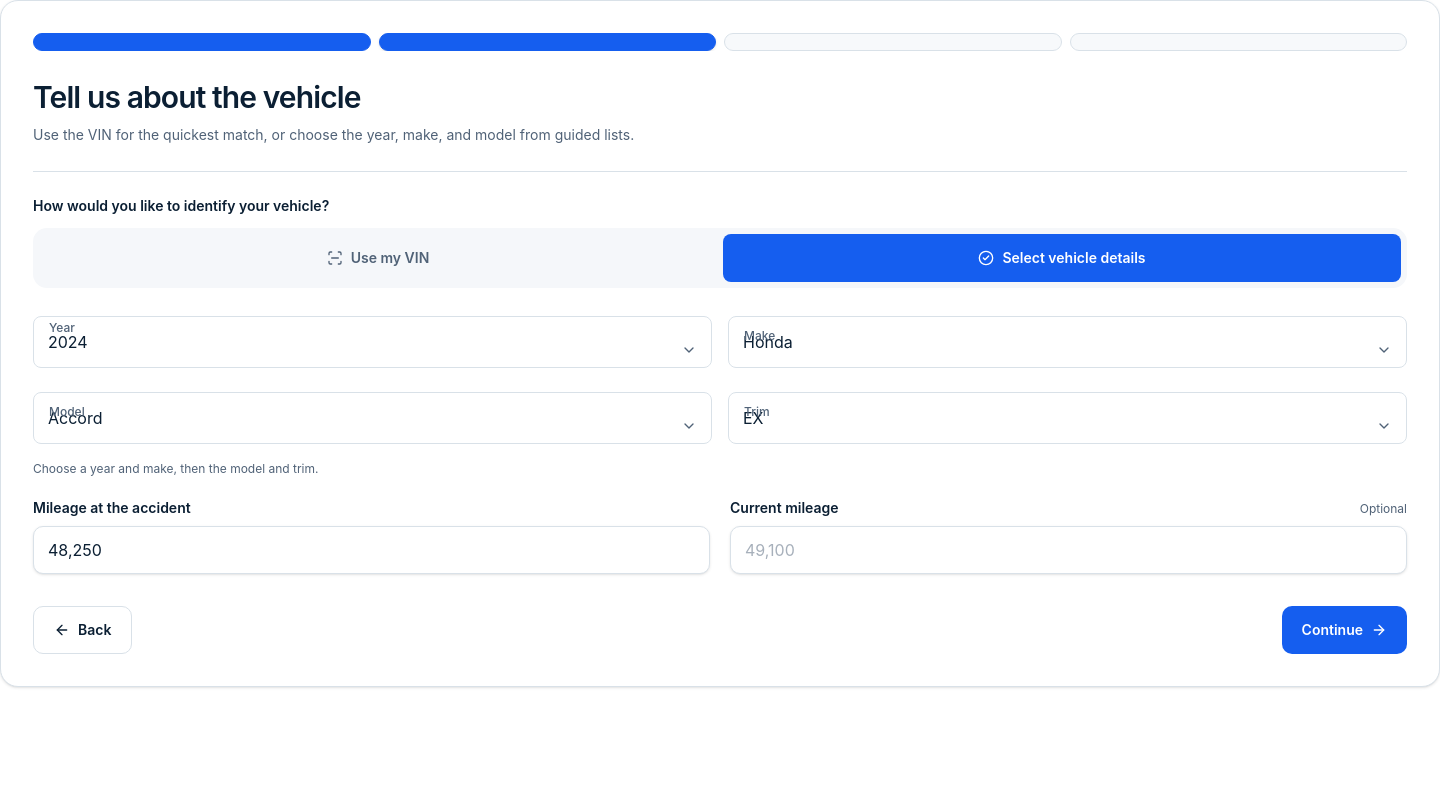
Test: DiminishedValueIntakeFlow › canonicalizes a hydrated configuration even when its saved trim is empty
The image size is (1440, 810).
Expected: the dropdown named "Trim" is enabled, top-left (728, 392), bottom-right (1407, 444)
Expected: the dropdown named "Trim" holds "marketcheck-trim-ex", top-left (728, 392), bottom-right (1407, 444)
Click the button "Continue" at (1344, 630), box top-left (1282, 606), bottom-right (1407, 654)
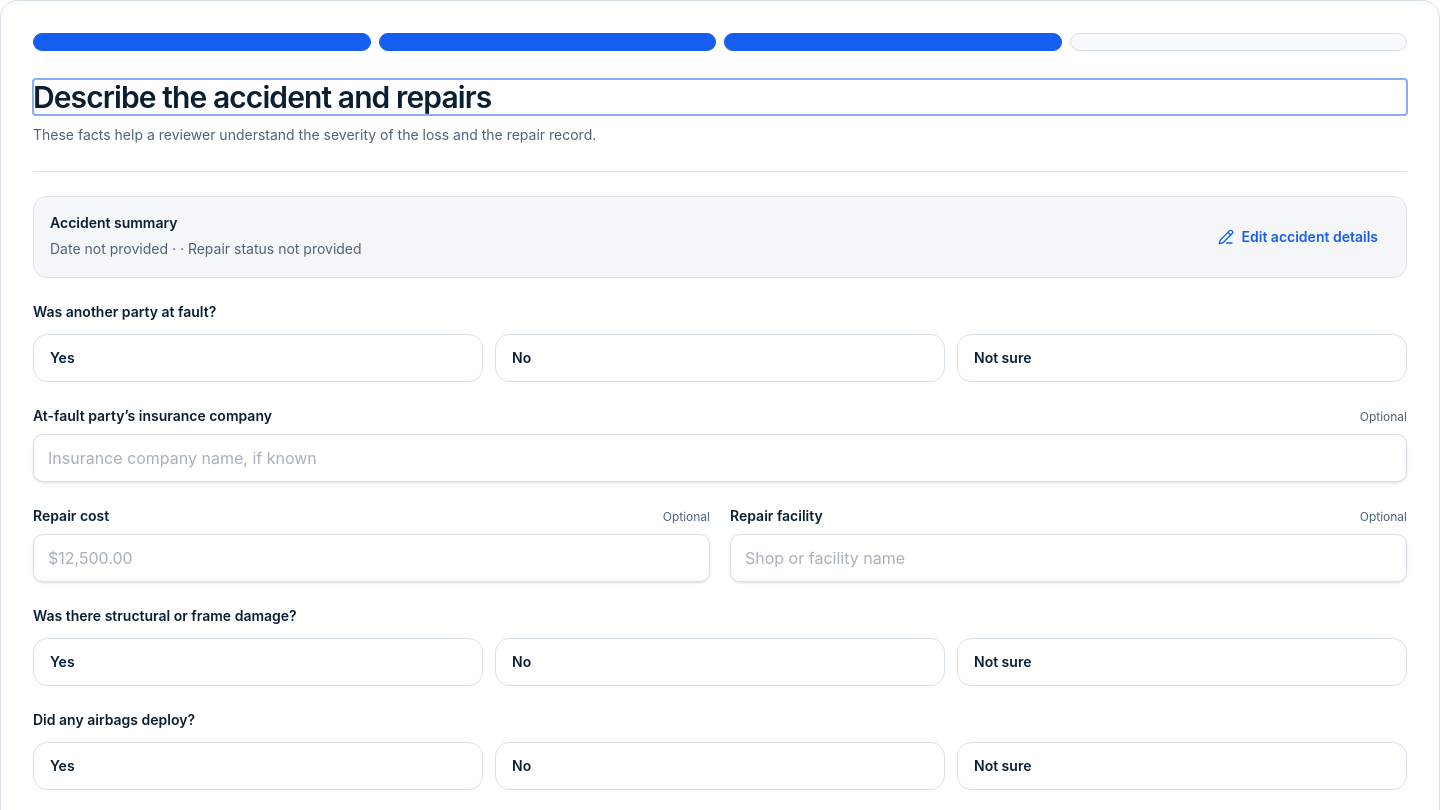
Expected: the heading "Describe the accident and repairs" is shown, top-left (33, 79), bottom-right (491, 115)
